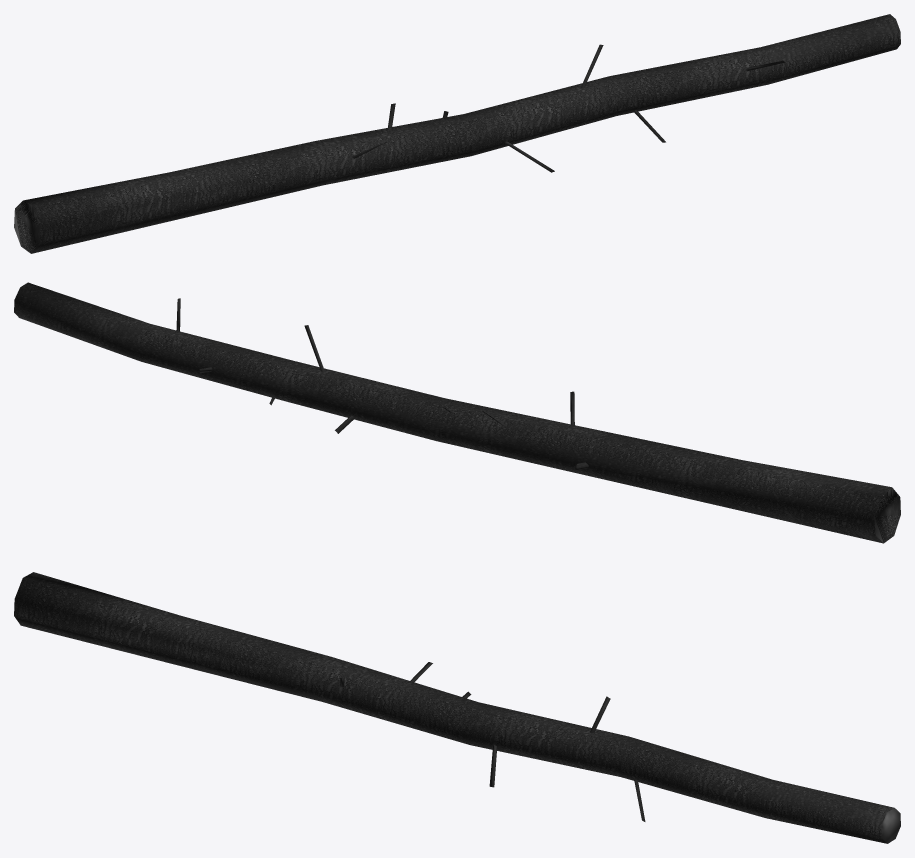
Rendered from log.glb.
The picture shows the model from 3 angles, top to bottom: view 1: azimuth 30°, elevation 25°; view 2: azimuth 150°, elevation 25°; view 3: azimuth 330°, elevation 25°; orthographic projection. The views are drawn at different scales.
Parts seen in each view (by area): view 1: log; view 2: log; view 3: log.
Boxes of the visible parts, <box> form: log: <box>14,14,900,253</box>; log: <box>14,282,900,543</box>; log: <box>14,572,900,843</box>.
Bounding box in the file's own units: 7.05 × 0.79 × 0.7565.
Materials: 1 (1 with a texture image).
